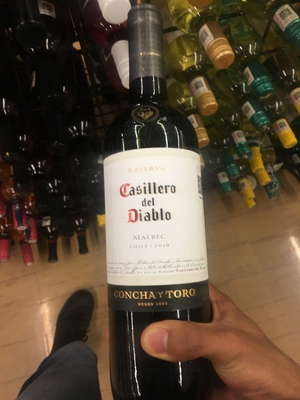casillero del diablo malbec: (88, 19, 226, 400)
